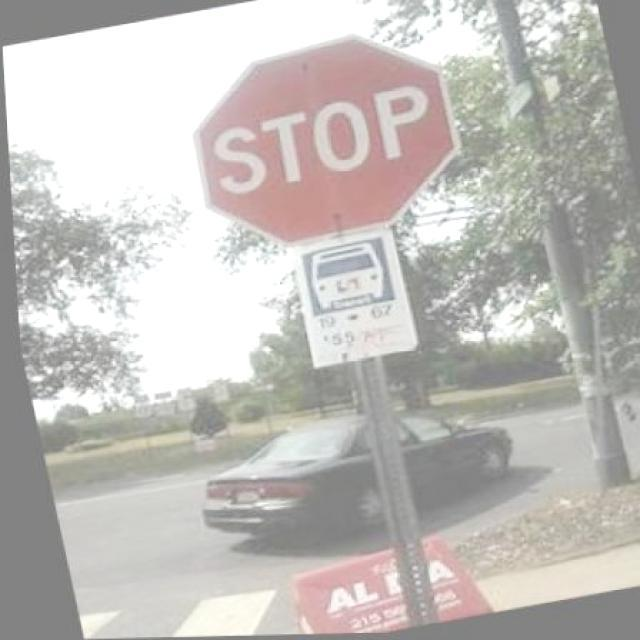stop_sign: (170, 17, 476, 259)
